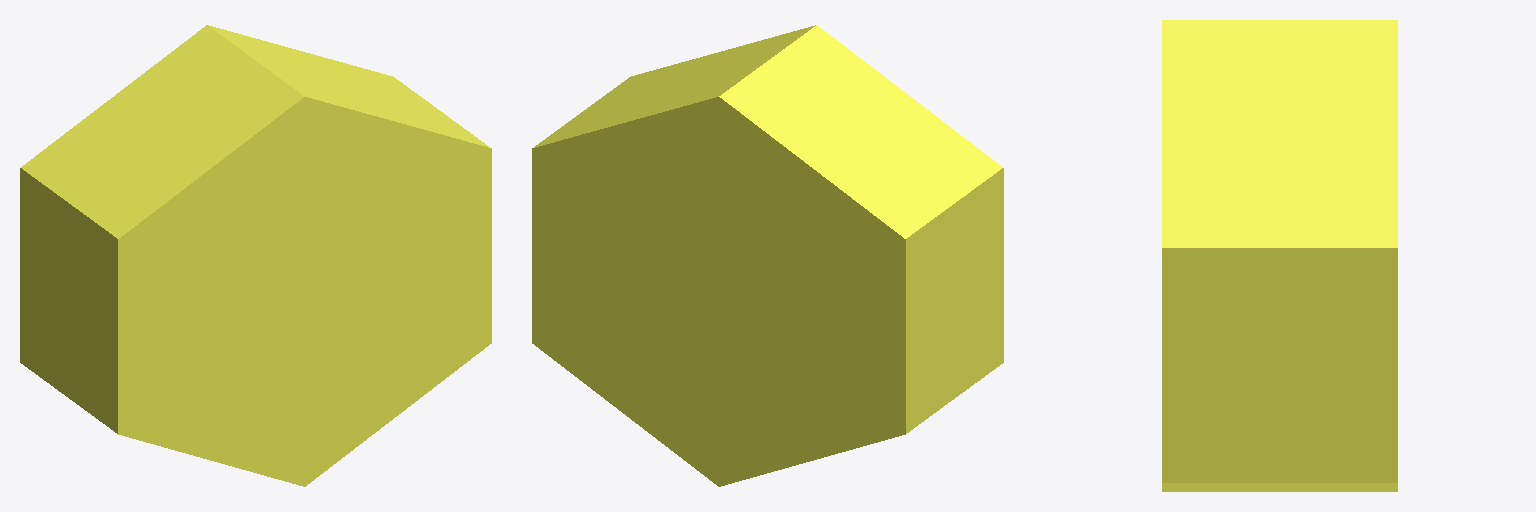
URDF robot description (cube.urdf):
<?xml version="1.0" ?>
<robot name="cube.urdf">
  <link name="legobrick">
    <contact>
      <lateral_friction value="1.0"/>
      <rolling_friction value="0.0"/>
      <contact_cfm value="0.0"/>
      <contact_erp value="1.0"/>
    </contact>
    <inertial>
      <origin rpy="0 0 0" xyz="0.0 0.0 0.0"/>
       <mass value=".1"/>
       <inertia ixx="1" ixy="0" ixz="0" iyy="1" iyz="0" izz="1"/>
    </inertial>
    <visual>
      <origin rpy="0 0 0" xyz="-0.016 -0.016 -0.0115"/>
      <geometry>
            <mesh filename="triangle.obj" scale=".1 .1 .1"/>
      </geometry>
       <material name="yellow">
        <color rgba="1 1 0.4 1"/>
      </material>
    </visual>
    <collision>
      <origin rpy="0 0 0" xyz="-0.016 -0.016 -0.0115"/>
      <geometry>
            <mesh filename="triangle.obj" scale=".1 .1 .1"/>
      </geometry>
    </collision>
  </link>
</robot>

--- What the picture shows (computed from the rendered views, not written in the file) ---
3 views of the same robot in one strip: view 1: azimuth 30°, elevation 25°; view 2: azimuth 150°, elevation 25°; view 3: azimuth 270°, elevation 25° (orthographic).
Model cube.urdf with 1 links and 0 joints (none), rooted at legobrick, posed all joints at 0.
Links seen in each view (by area): view 1: legobrick; view 2: legobrick; view 3: legobrick.
Boxes of the visible links, left/top/right/bottom form: legobrick: left=20, top=25, right=491, bottom=486; legobrick: left=532, top=25, right=1003, bottom=486; legobrick: left=1162, top=20, right=1397, bottom=491.
Size in the robot's own frame: 0.055 by 0.025 by 0.055 metres.
Meshes: 1 distinct files referenced, 1 mesh visuals loaded (1 OBJ).